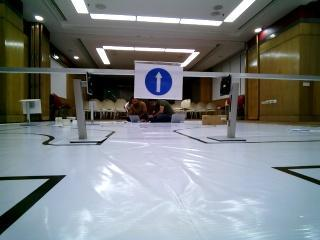straight: (135, 60, 184, 102)
